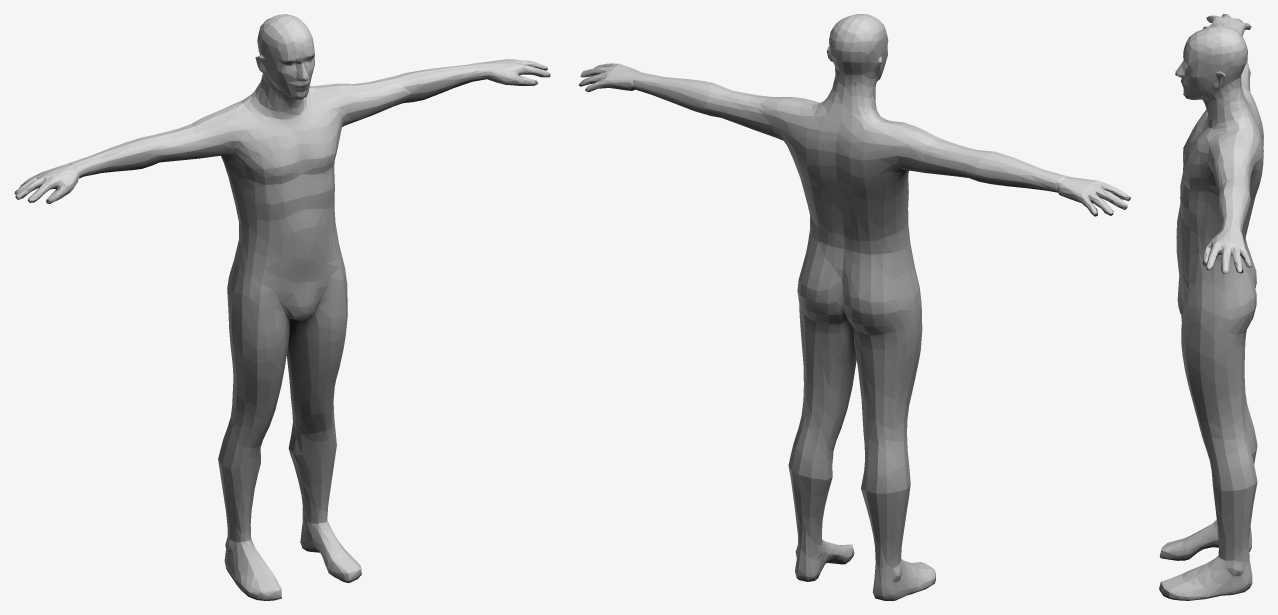
Rendered from male-a.glb.
The picture shows the model from 3 angles, left to right: view 1: azimuth 30°, elevation 25°; view 2: azimuth 150°, elevation 25°; view 3: azimuth 270°, elevation 25°; orthographic projection. The views are drawn at different scales.
Visible parts, largest first — view 1: world; view 2: world; view 3: world.
Part boxes in pixels (x1,y1,x2,y2): world: (14, 14, 550, 600); world: (579, 14, 1130, 600); world: (1159, 14, 1263, 600).
Size of the model in its own units: 1 by 0.9942 by 0.1729.
1 material, 1 textured.
